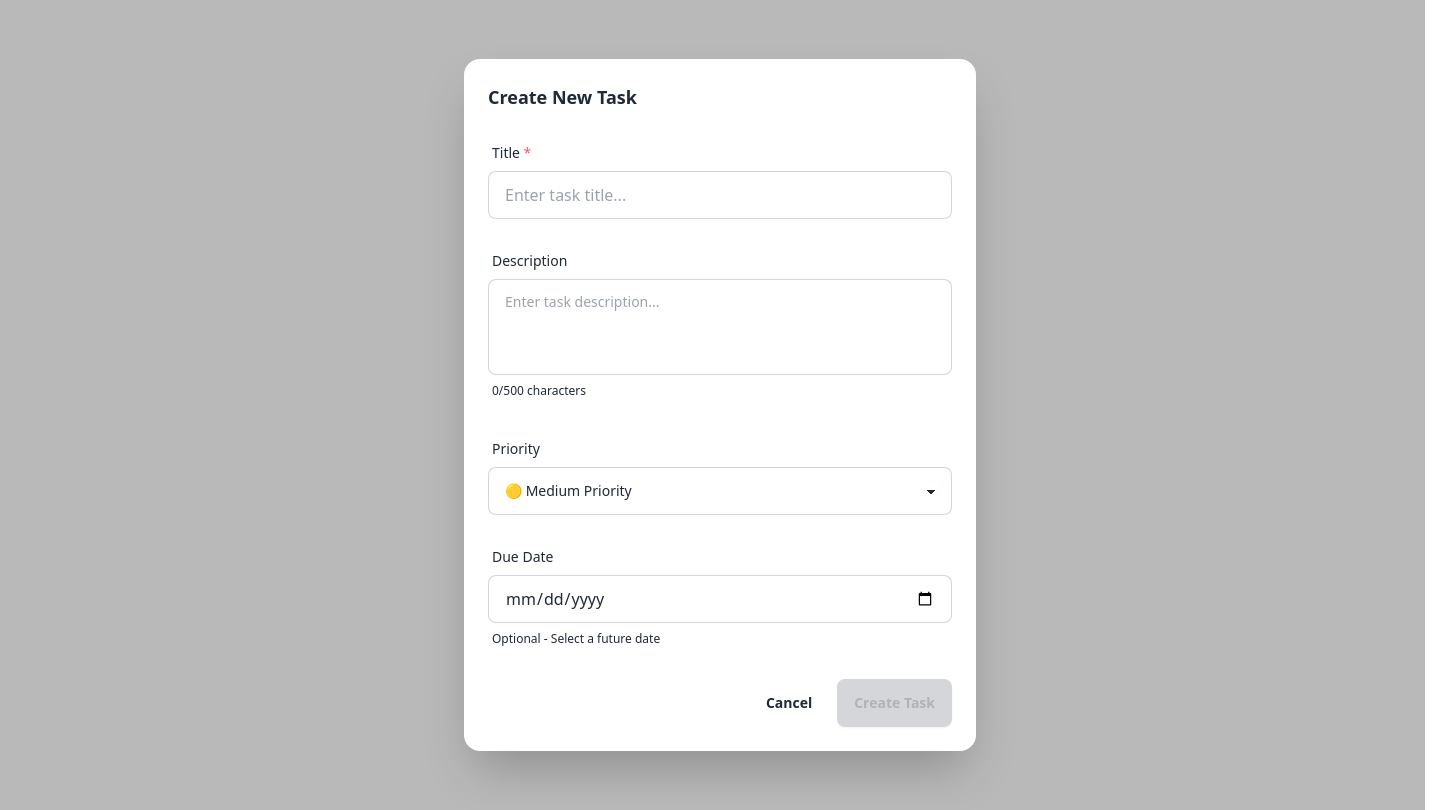
Test: TaskCreationModal › shows validation error for short title
Expected: the heading "Create New Task" is shown, [488,85,637,109]
Type "AB" into the field labelled "Title *" at x=720, y=195, box [488,171,952,219]
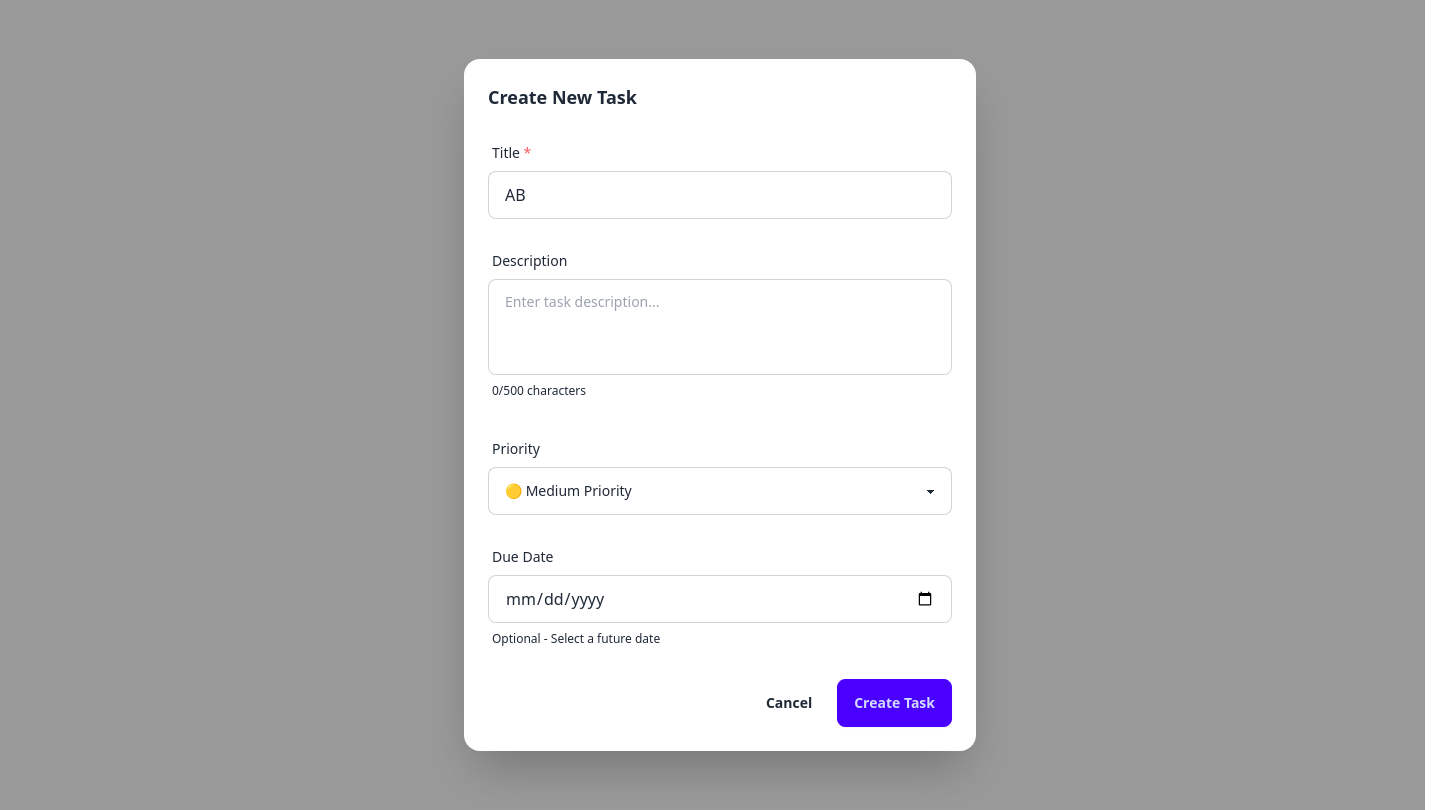
Click the button "Create Task" at x=895, y=703, box [837,679,952,727]
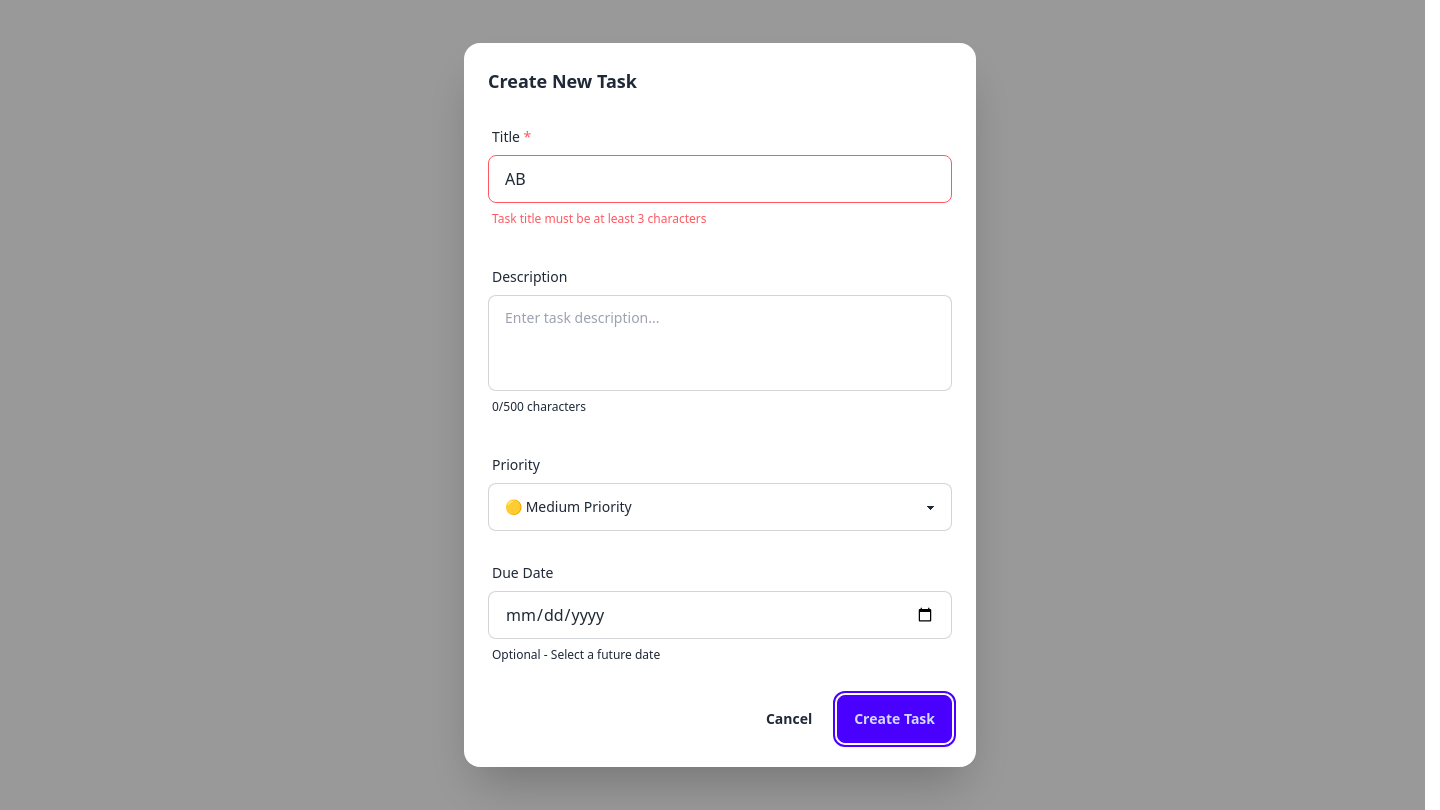
Result: the text "Task title must be at least 3 characters" is shown at [492,211,706,227]
